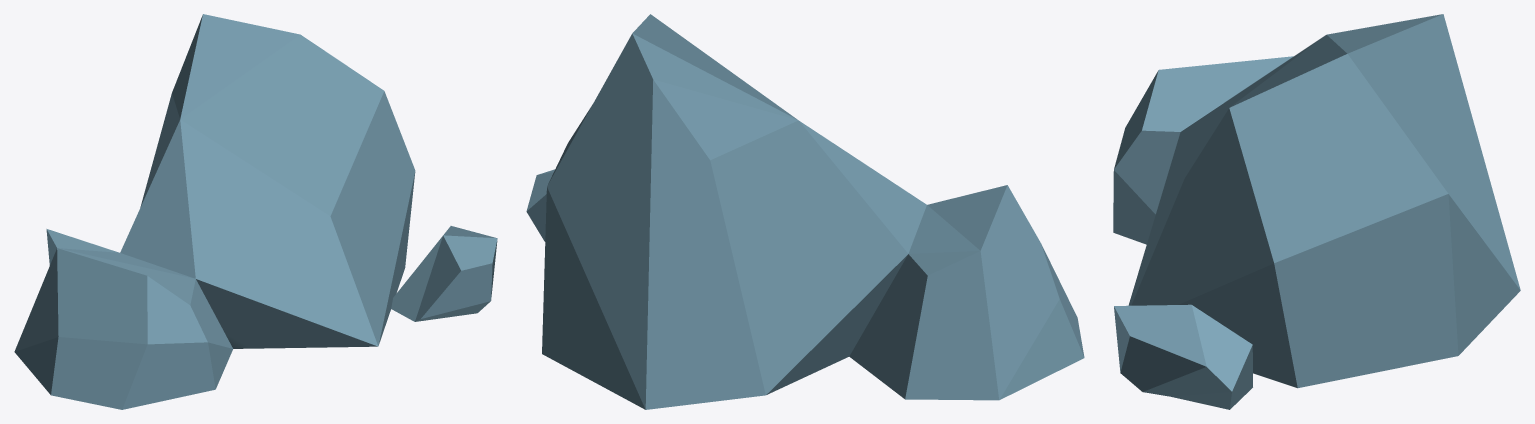
The model's file is 2water_4.fbx.
3 renders of one model, left to right at view 1: azimuth 30°, elevation 25°; view 2: azimuth 150°, elevation 25°; view 3: azimuth 270°, elevation 25°, orthographic. The views are drawn at different scales.
Visible parts, largest first — view 1: 4; view 2: 4; view 3: 4.
Boxes of the visible parts, x1,y1,x2,y2 form: 4: (14,14,497,409); 4: (526,14,1084,409); 4: (1113,14,1520,409).
Size of the model in its own units: 30.74 by 20.14 by 15.91.
Materials: 1 (1 with a texture image).
